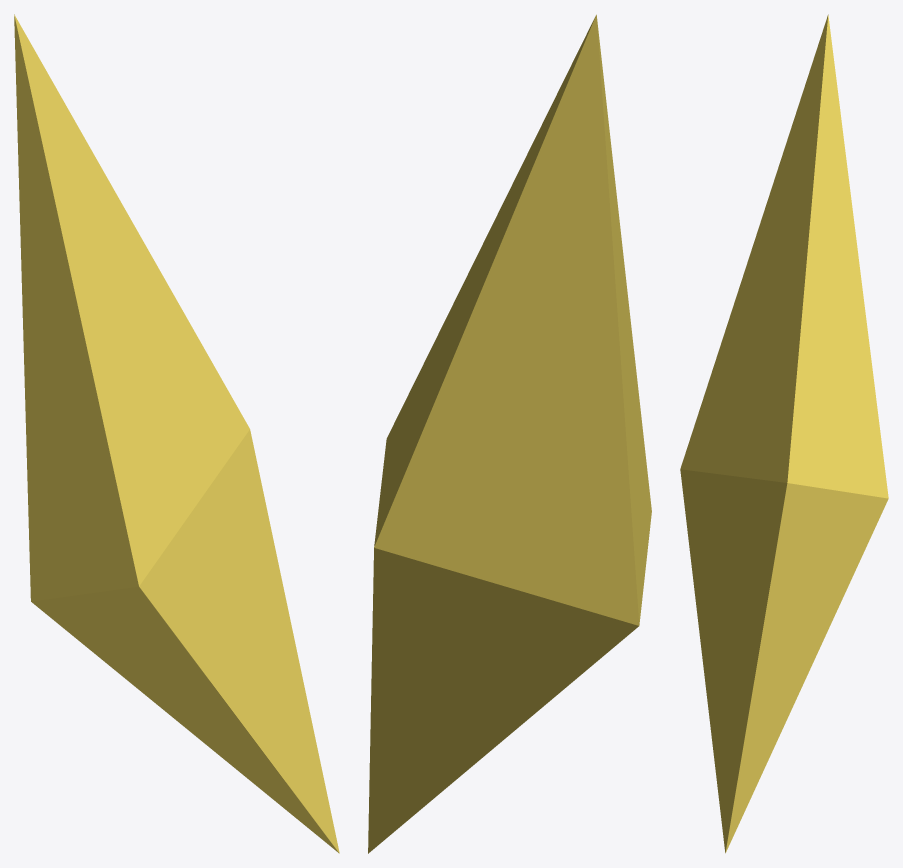
The model's file is world_1_fire_splinter_2.dae.
3 renders of one model, left to right at view 1: azimuth 30°, elevation 25°; view 2: azimuth 150°, elevation 25°; view 3: azimuth 270°, elevation 25°, orthographic. The views are drawn at different scales.
Parts seen in each view (by area): view 1: fire_small_001; view 2: fire_small_001; view 3: fire_small_001.
Boxes of the visible parts, x1,y1,x2,y2 form: fire_small_001: (14, 14, 339, 853); fire_small_001: (368, 14, 651, 853); fire_small_001: (680, 14, 888, 853).
Bounding box in the file's own units: 0.1056 × 0.0814 × 0.3146.
